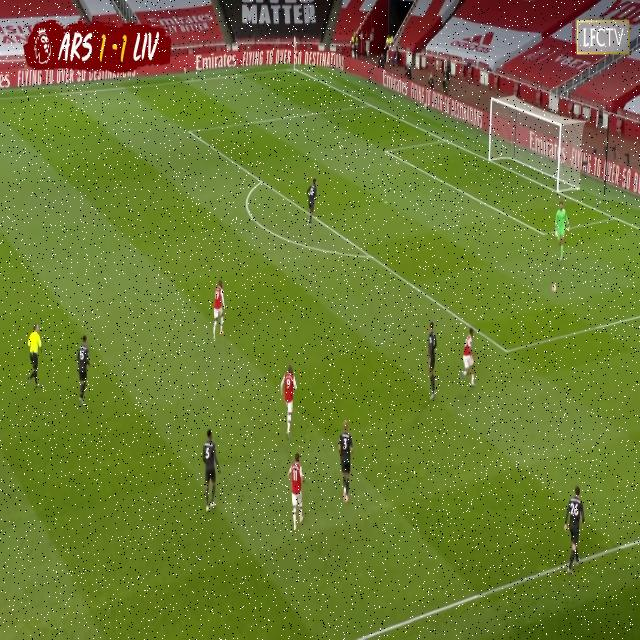Ball: (550, 280, 560, 296)
GoalKeeper: (552, 203, 570, 261)
TEAM 1: (288, 452, 304, 530), (280, 365, 296, 441), (460, 330, 476, 390), (215, 280, 228, 340)
TEAM 2: (564, 490, 585, 578), (202, 429, 223, 512), (337, 420, 353, 503), (77, 333, 93, 408), (426, 321, 439, 404), (306, 178, 318, 223)
